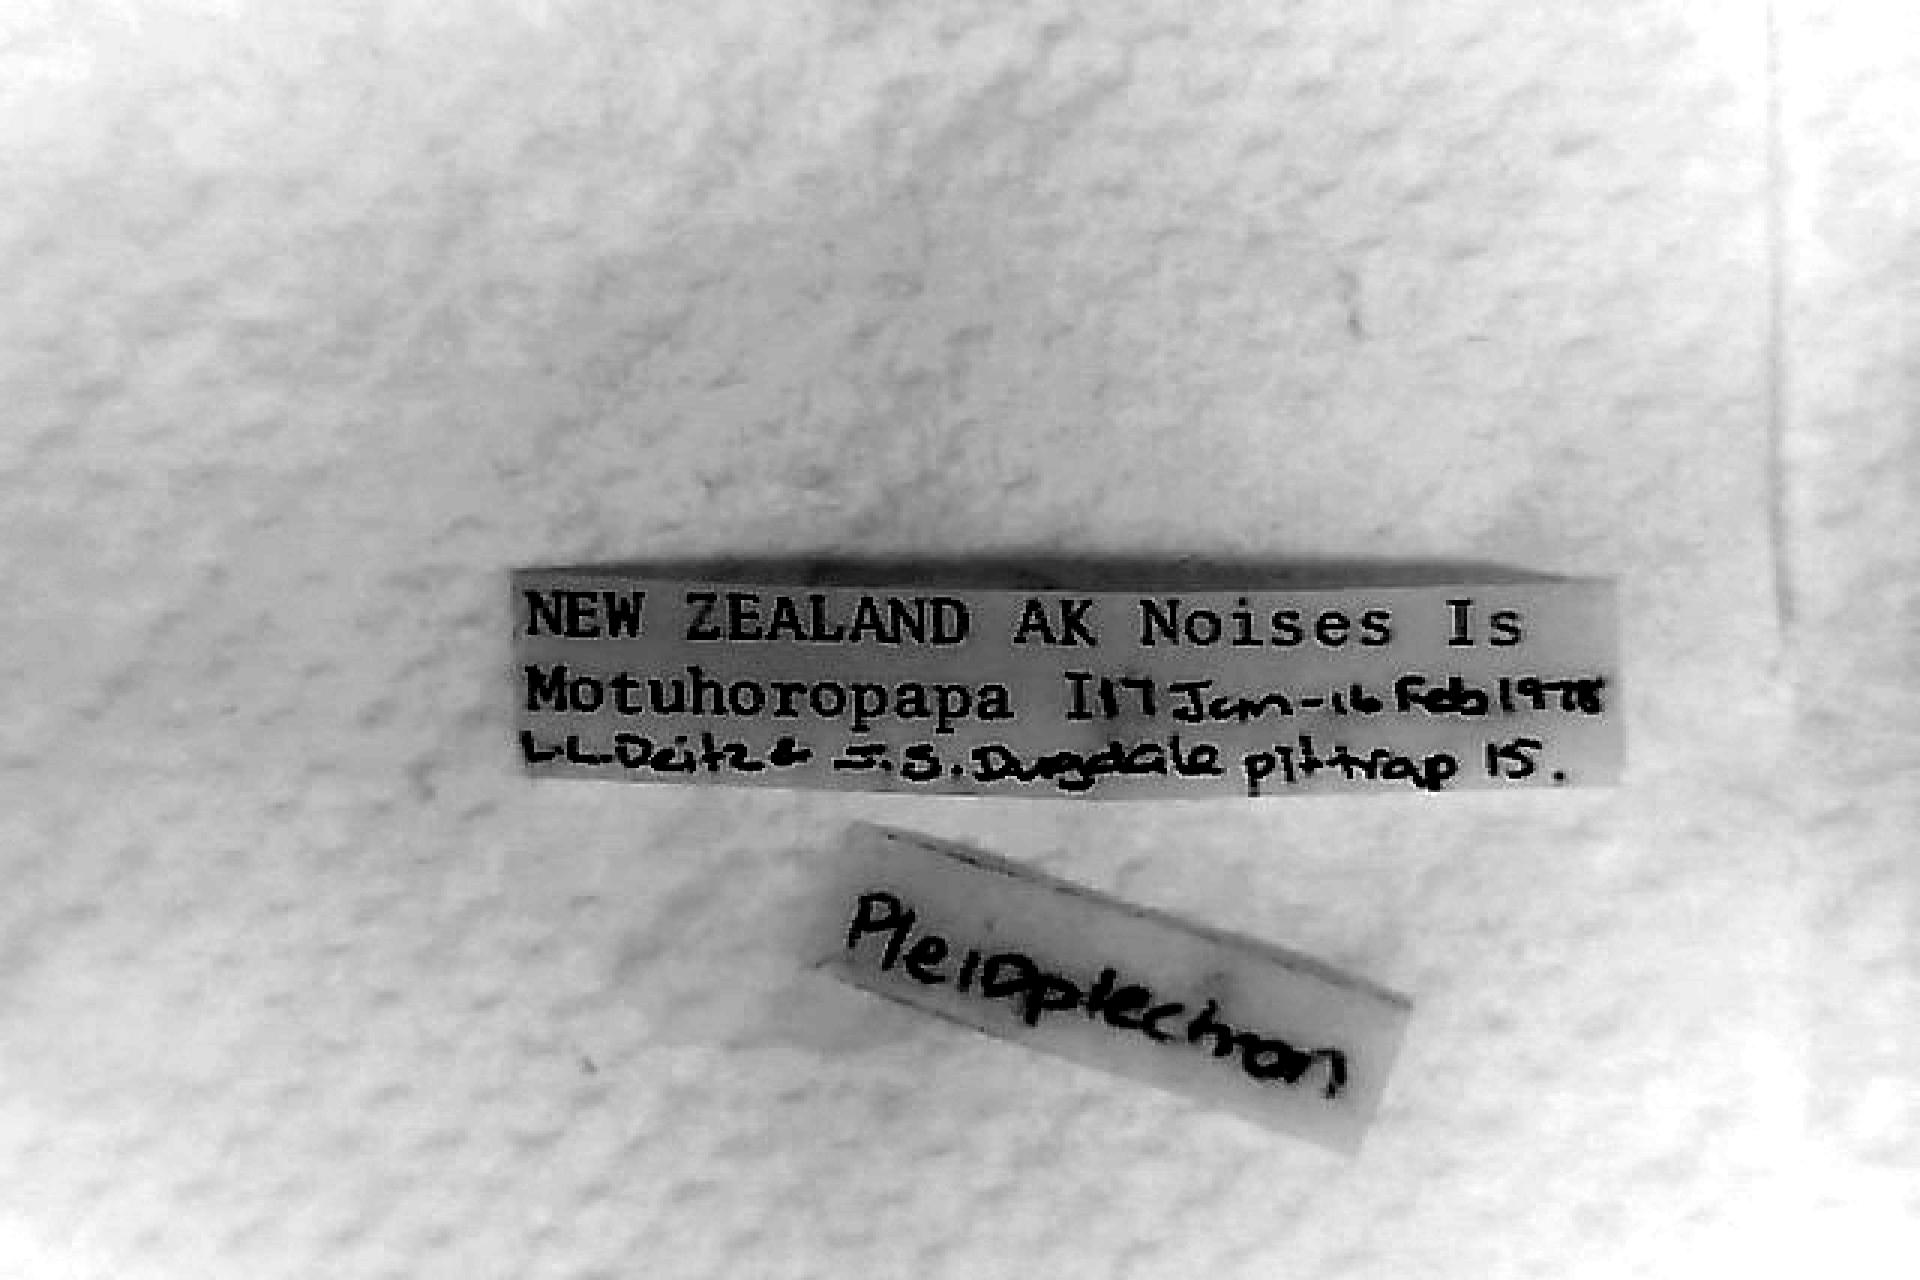hand_label: (832, 827, 1410, 1145)
mixed_label: (514, 563, 1620, 795)
